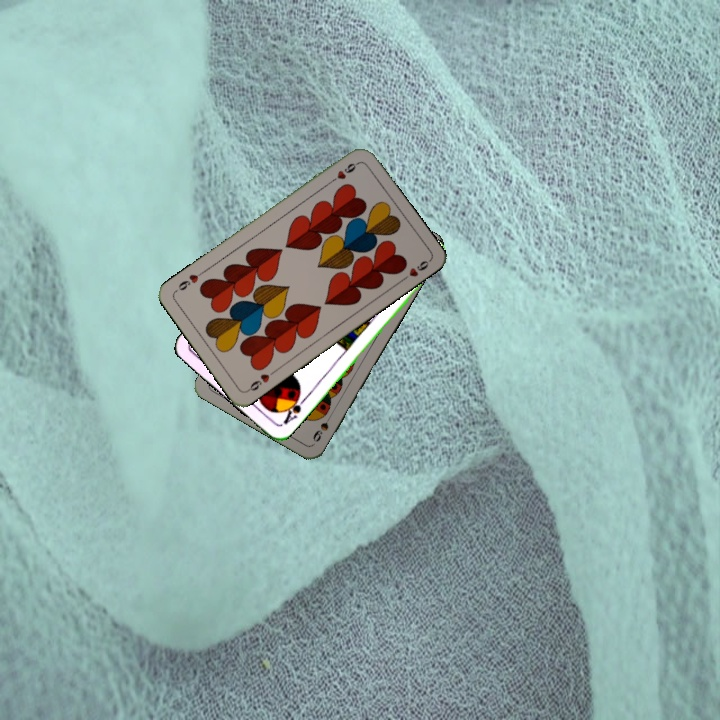H9: (243, 366, 278, 395), (325, 158, 361, 186)
S9: (308, 409, 335, 444)
SA: (277, 390, 308, 428)
